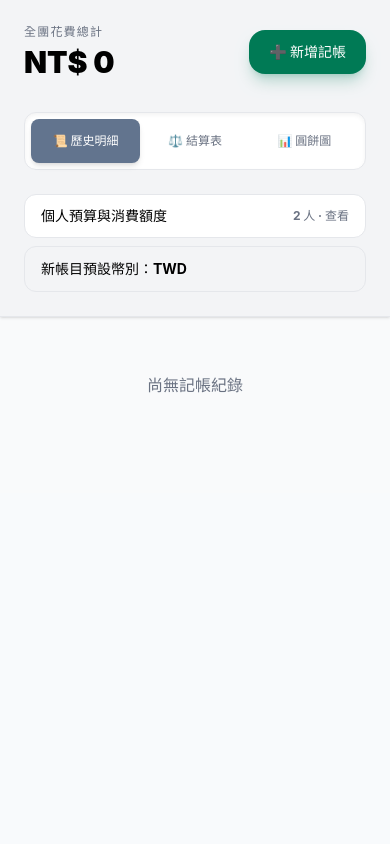
Test case: ExpenseSection › 主要視圖、統計對象與預算輸入具備選取語意與可存取名稱
The width and height of the screenshot is (390, 844).
Click the button with test id "budget-toggle". click: (104, 216)
box: left=24, top=194, right=366, bottom=238
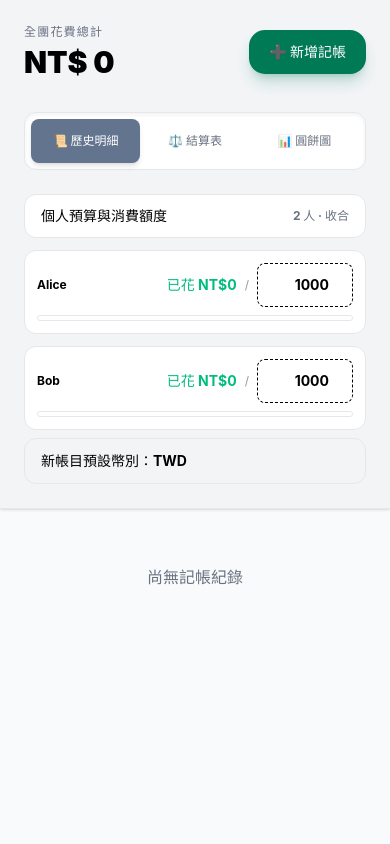
Check: the number field named "Alice 個人預算（新台幣）" is shown, box left=257, top=263, right=353, bottom=307
Check: the button with test id "budget-toggle" is expanded, box left=24, top=194, right=366, bottom=238
Click the button with test id "expense-chart-view-button". click: (304, 141)
box: left=250, top=119, right=359, bottom=163
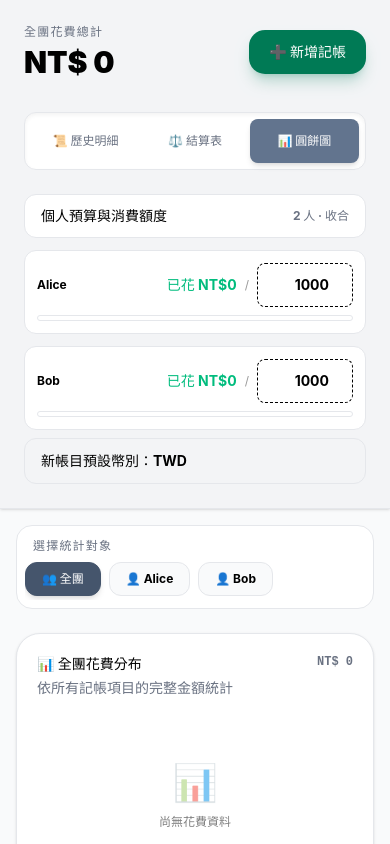
Click the button "👤 Bob". click: (236, 579)
box: left=198, top=562, right=273, bottom=596
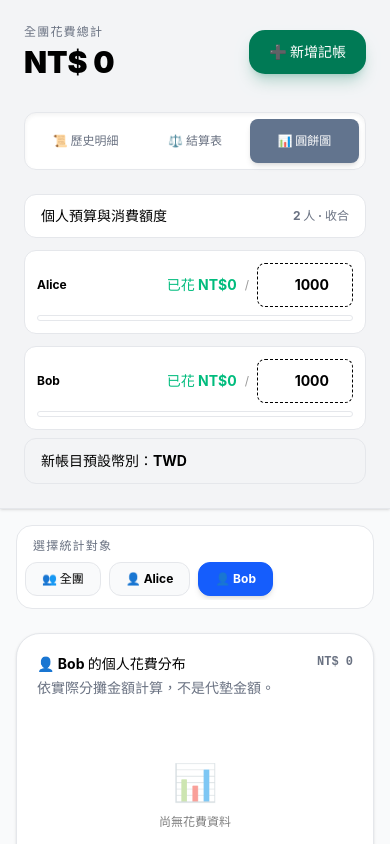
Check: the button "👤 Bob" is pressed, box left=198, top=562, right=273, bottom=596
Click the button with test id "budget-toggle". click: (104, 216)
box: left=24, top=194, right=366, bottom=238
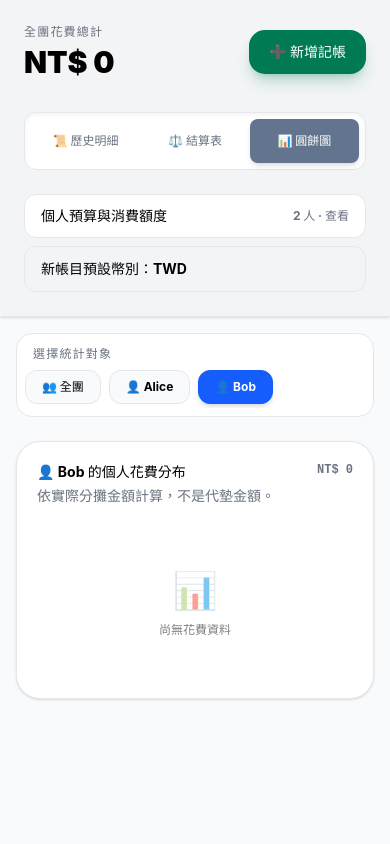
Check: the button with test id "budget-toggle" is collapsed, box left=24, top=194, right=366, bottom=238
